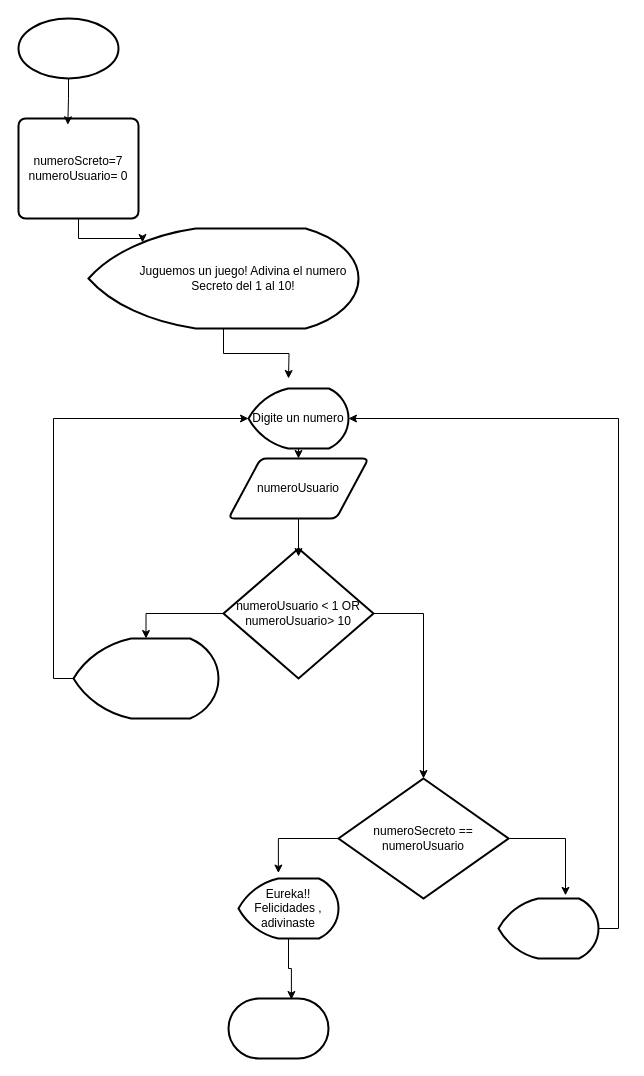
The diagram is 644 pixels wide and 1076 high, and some of its shapes have lost their labels. Here are the shapes that lost their labels. From the top down, the box of each, then its label:
(17, 17, 119, 79): Inicio
(72, 637, 219, 719): Numero fuera de Rango, digite uno del 1 al 10
(497, 897, 599, 959): Lo lamento, intentalo de nuevo :(
(227, 997, 329, 1059): Fin
